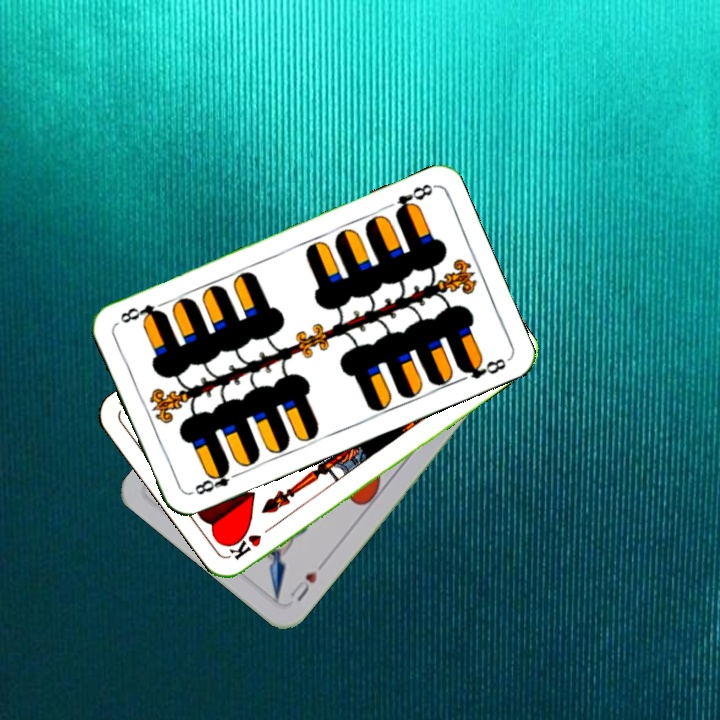E8: (187, 462, 243, 498), (391, 179, 437, 218)
HK: (226, 519, 280, 563)
HU: (285, 567, 320, 604)
